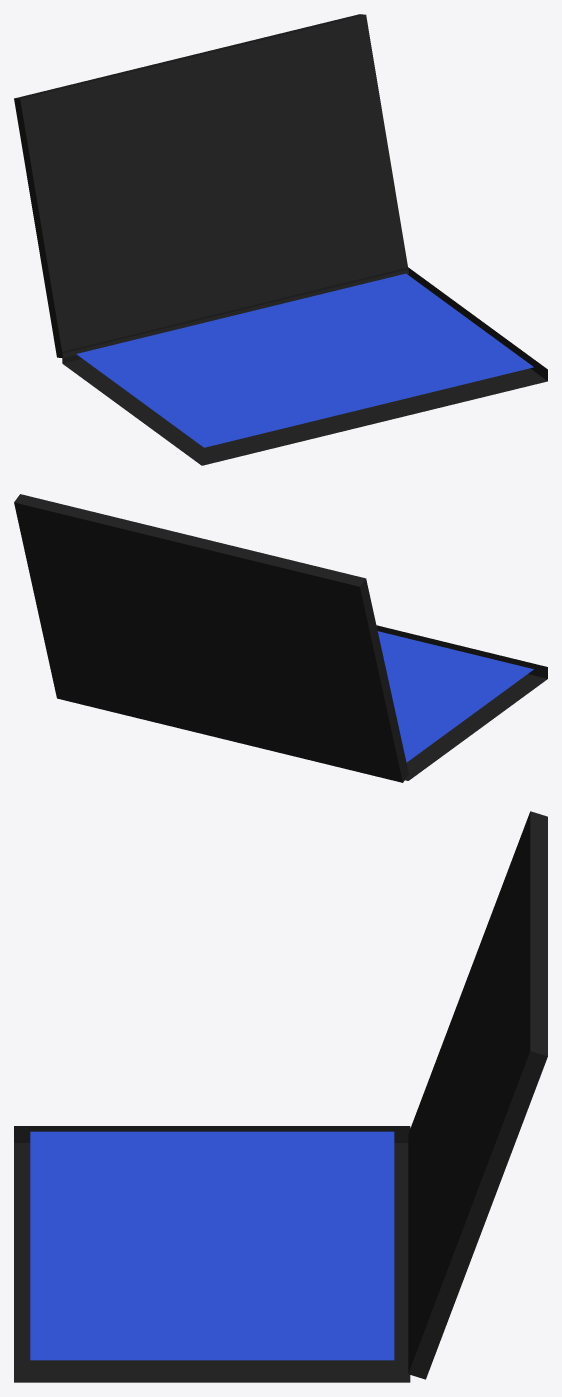
3 renders of one model, top to bottom at view 1: azimuth 30°, elevation 25°; view 2: azimuth 150°, elevation 25°; view 3: azimuth 270°, elevation 25°, orthographic. The views are drawn at different scales.
Parts seen in each view (by area): view 1: Keyboard, Display, Screen.001; view 2: Keyboard, Display, Screen.001; view 3: Display, Keyboard, Screen.001.
Part boxes in pixels (x1,y1,x2,y2): Keyboard: (14,14,408,358); Display: (76,273,533,447); Screen.001: (62,267,547,465); Keyboard: (14,494,408,782); Display: (377,631,533,762); Screen.001: (376,625,547,780); Display: (30,1131,394,1360); Keyboard: (408,811,547,1379); Screen.001: (14,1126,410,1382).
Size of the model in its own units: 0.3041 by 0.1961 by 0.2861.
